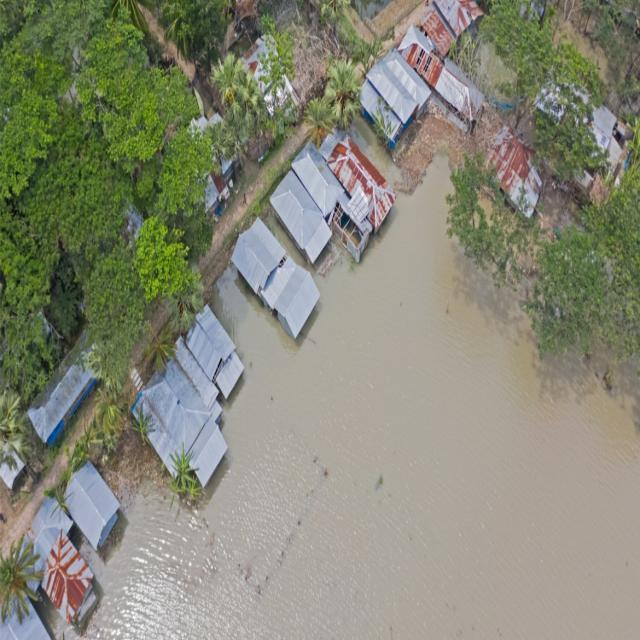flood: (77, 154, 640, 640)
house: (127, 299, 238, 501), (230, 218, 325, 343), (322, 132, 396, 239), (357, 51, 432, 146), (266, 170, 340, 264), (24, 364, 102, 446), (62, 454, 126, 552), (38, 534, 100, 626), (292, 144, 349, 218)
